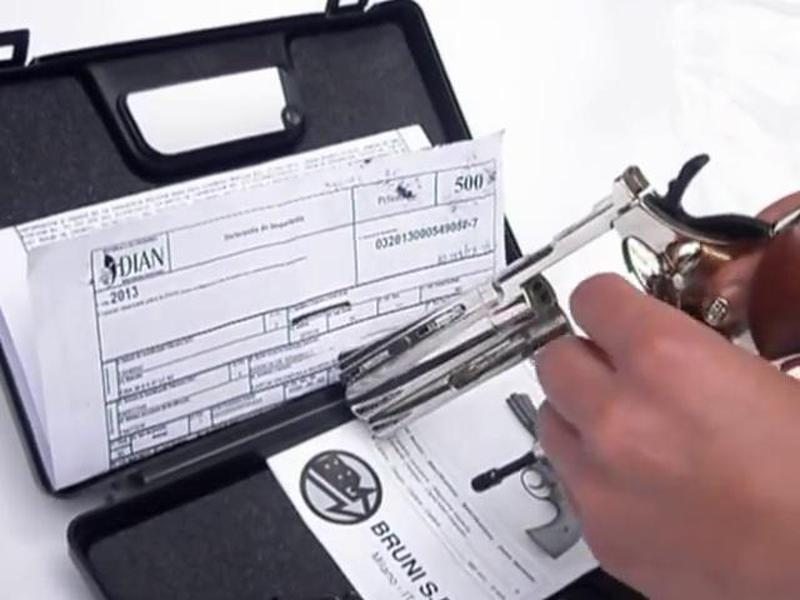Revolver: (313, 161, 800, 435)
